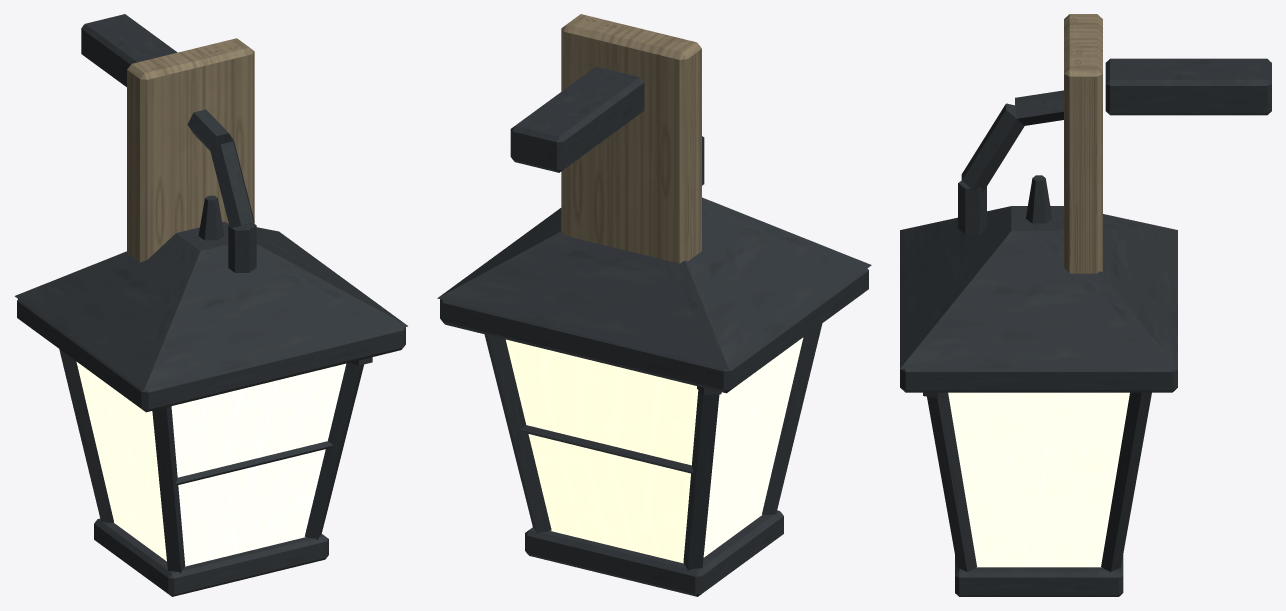
The model's file is lamp_wall.glb.
3 views of the same model, side by side, from view 1: azimuth 30°, elevation 25°; view 2: azimuth 150°, elevation 25°; view 3: azimuth 270°, elevation 25° (orthographic). The views are drawn at different scales.
Parts seen in each view (by area): view 1: outdoor_lamp_wall; view 2: outdoor_lamp_wall; view 3: outdoor_lamp_wall.
Boxes of the visible parts, left/top/right/bottom form: outdoor_lamp_wall: left=14, top=14, right=407, bottom=596; outdoor_lamp_wall: left=437, top=14, right=871, bottom=596; outdoor_lamp_wall: left=900, top=14, right=1271, bottom=596.
Size of the model in its own units: 0.3 by 0.52 by 0.34.
3 materials, 3 textured.
